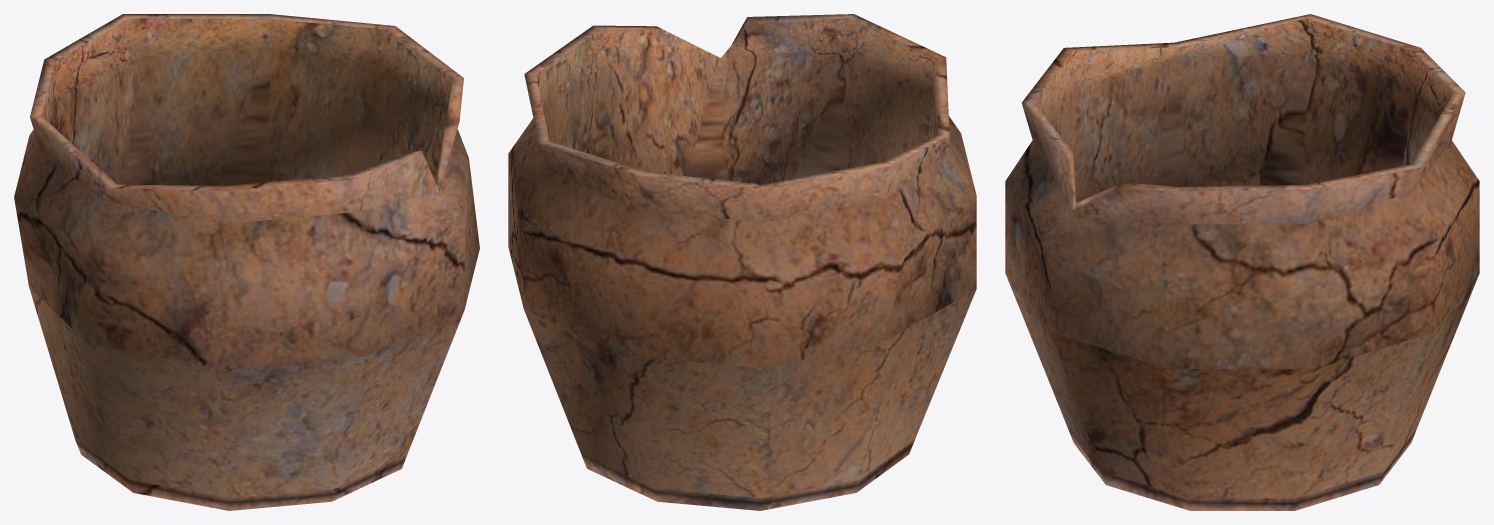
The model's file is claypot.fbx.
3 renders of one model, left to right at view 1: azimuth 30°, elevation 25°; view 2: azimuth 150°, elevation 25°; view 3: azimuth 270°, elevation 25°, orthographic.
Parts seen in each view (by area): view 1: Circle; view 2: Circle; view 3: Circle.
Boxes of the visible parts, left/top/right/bottom form: Circle: left=14, top=14, right=479, bottom=510; Circle: left=508, top=14, right=976, bottom=510; Circle: left=1005, top=14, right=1479, bottom=510.
Bounding box in the file's own units: 244 × 206 × 257.
Materials: 1 (1 with a texture image).
